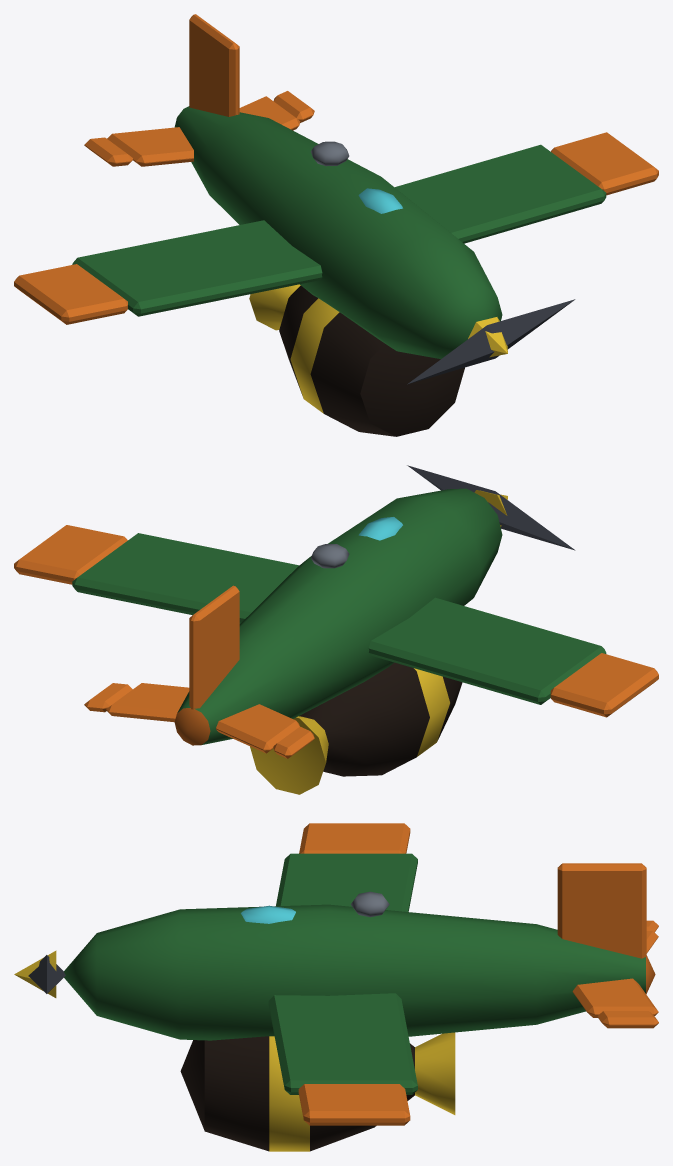
3 renders of one model, top to bottom at view 1: azimuth 30°, elevation 25°; view 2: azimuth 150°, elevation 25°; view 3: azimuth 270°, elevation 25°, orthographic.
Parts seen in each view (by area): view 1: as_0_base, as_1_torreta; view 2: as_0_base, as_1_torreta; view 3: as_0_base, as_1_torreta.
Boxes of the visible parts, x1,y1,x2,y2 form: as_0_base: (14,14,658,436); as_1_torreta: (407,299,575,384); as_0_base: (14,488,658,794); as_1_torreta: (407,465,575,550); as_0_base: (64,823,658,1151); as_1_torreta: (14,950,65,997).
Bounding box in the file's own units: 1.45 × 0.6427 × 1.36.
